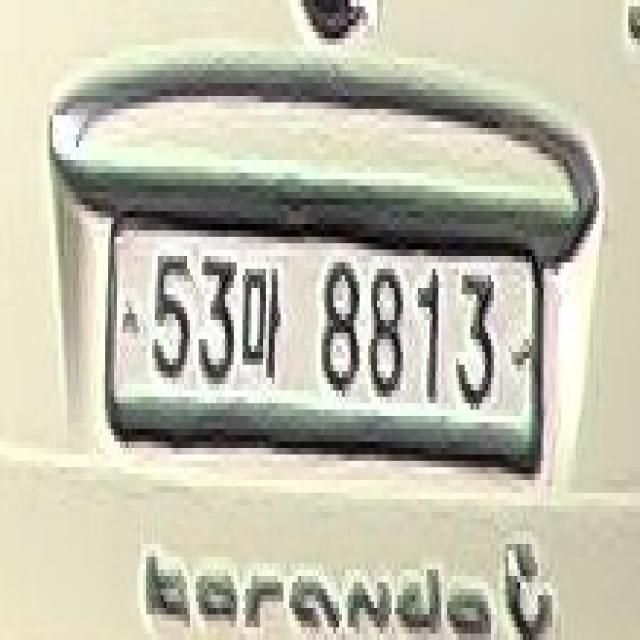1: (409, 256, 450, 442)
3: (450, 268, 497, 409), (198, 244, 240, 390)
5: (149, 243, 196, 384)
8: (362, 243, 410, 416), (318, 250, 366, 410)
license_plate: (100, 211, 550, 480)
ma: (237, 243, 289, 384)
